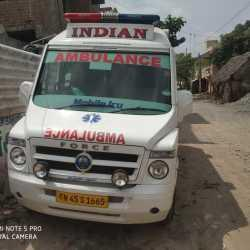Emergency-Vehicles: (0, 2, 209, 243)
